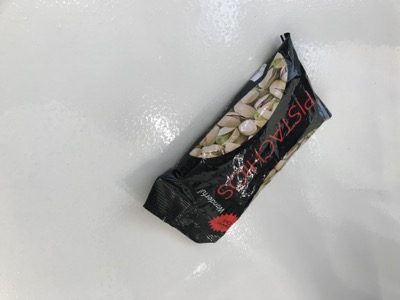pistachio: (142, 32, 334, 245)
